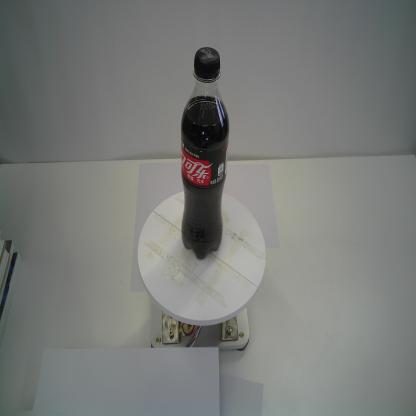Drink: (180, 46, 231, 261)
